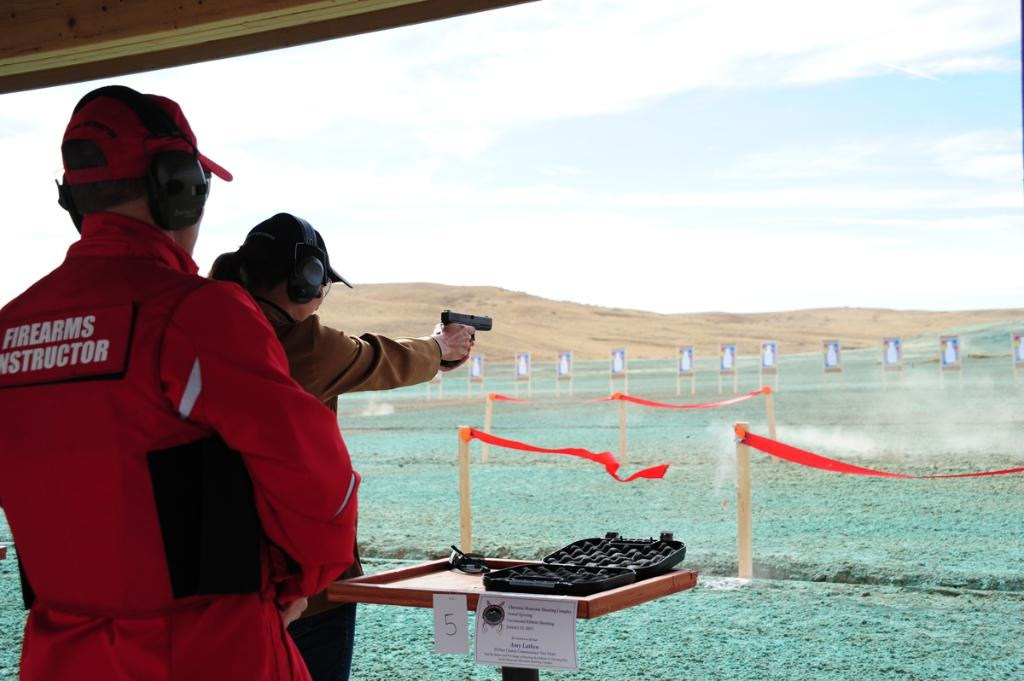gun: (421, 278, 521, 368)
